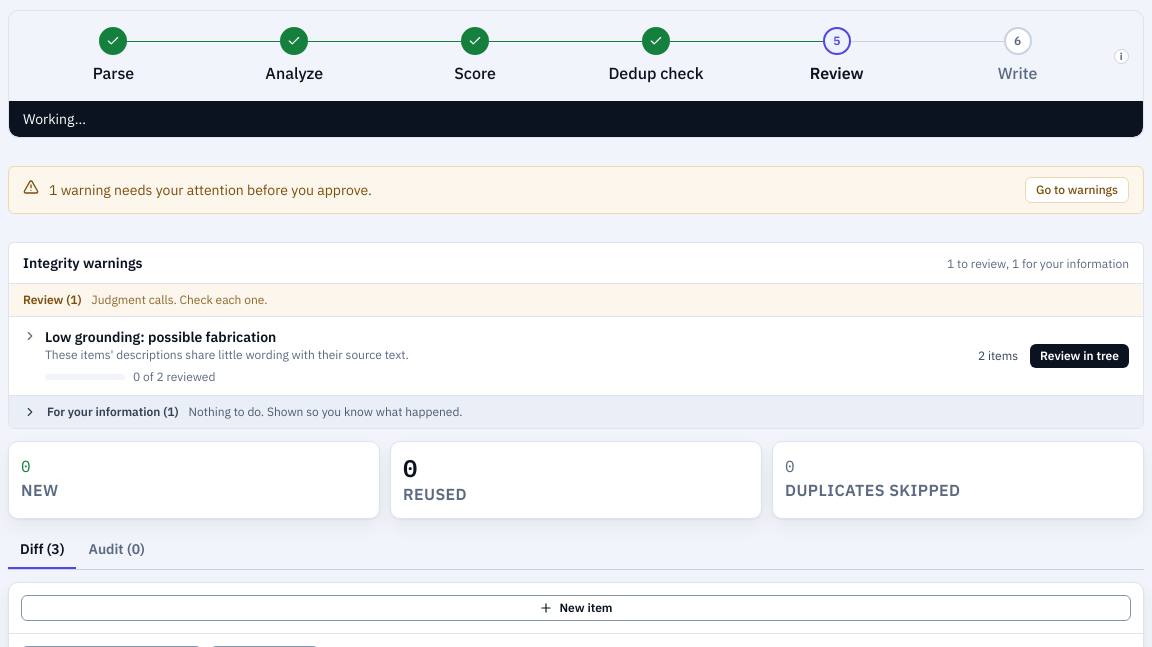
it: JobDetail › integrity warnings › narrows the tree to a warning's items, shows a clearable chip, and points bulk actions at that set
Click the button "Review in tree" at (1080, 356), box [1030,344,1129,368]
(page scrolled)
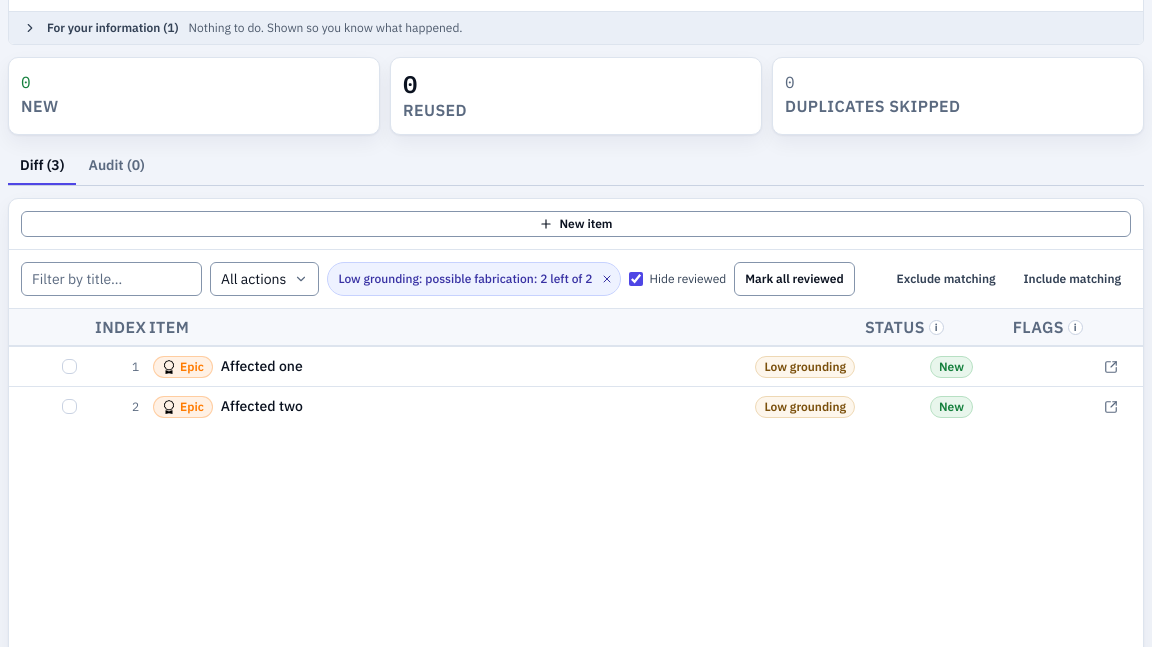
Expected: the text "Affected one" is shown, [221,357,303,375]
Now the text "Low grounding: possible fabrication: 2 left of 2" is shown, box [327,262,622,296]
Now the button "Exclude matching" is shown, box [887,262,1006,296]
Click the button named "clear warning filter" at (608, 279), box [598,270,616,288]
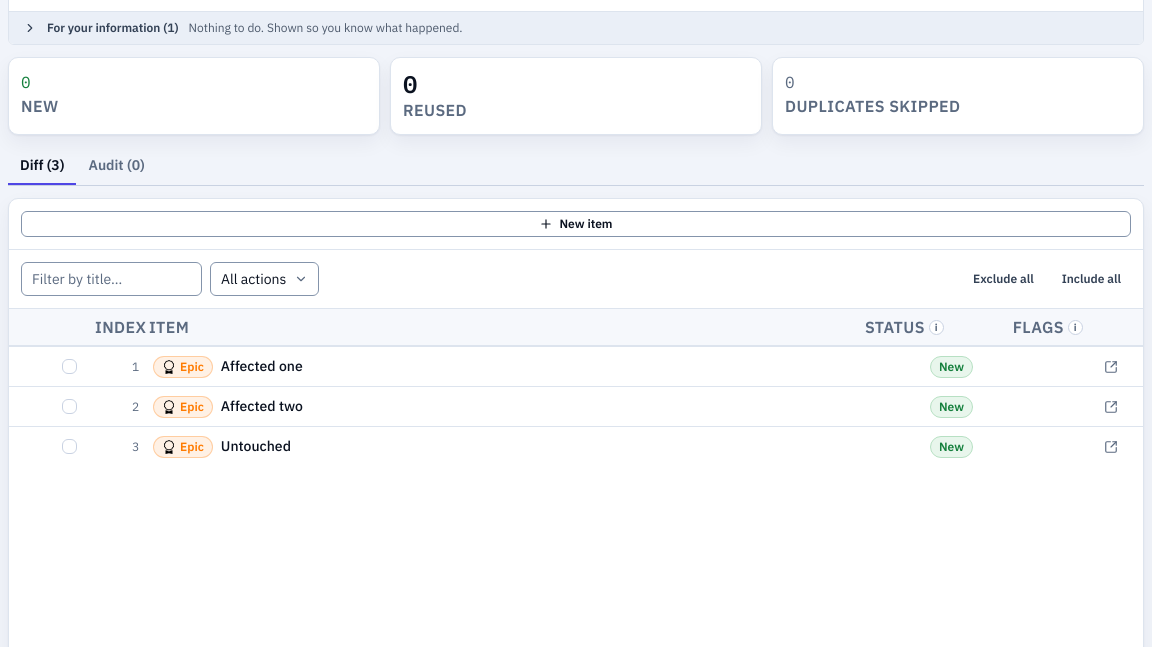
Now the text "Untouched" is shown, box [221,437,291,455]
Now the text "2 left of 2" is gone
